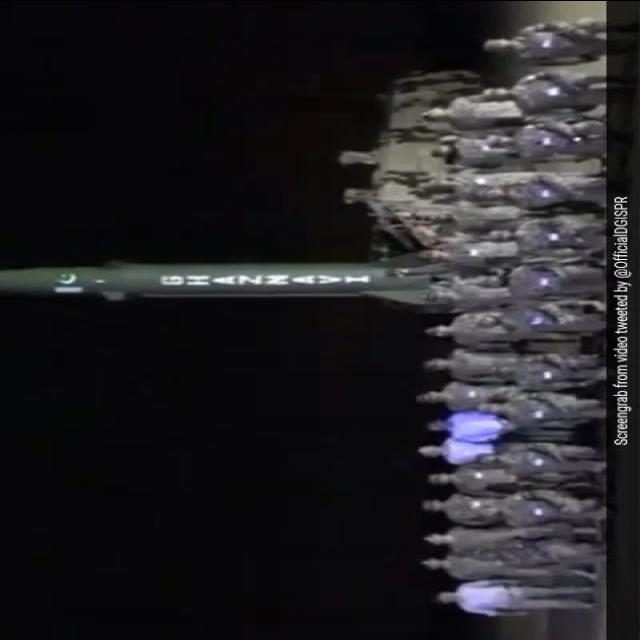Missile: (0, 249, 420, 308)
